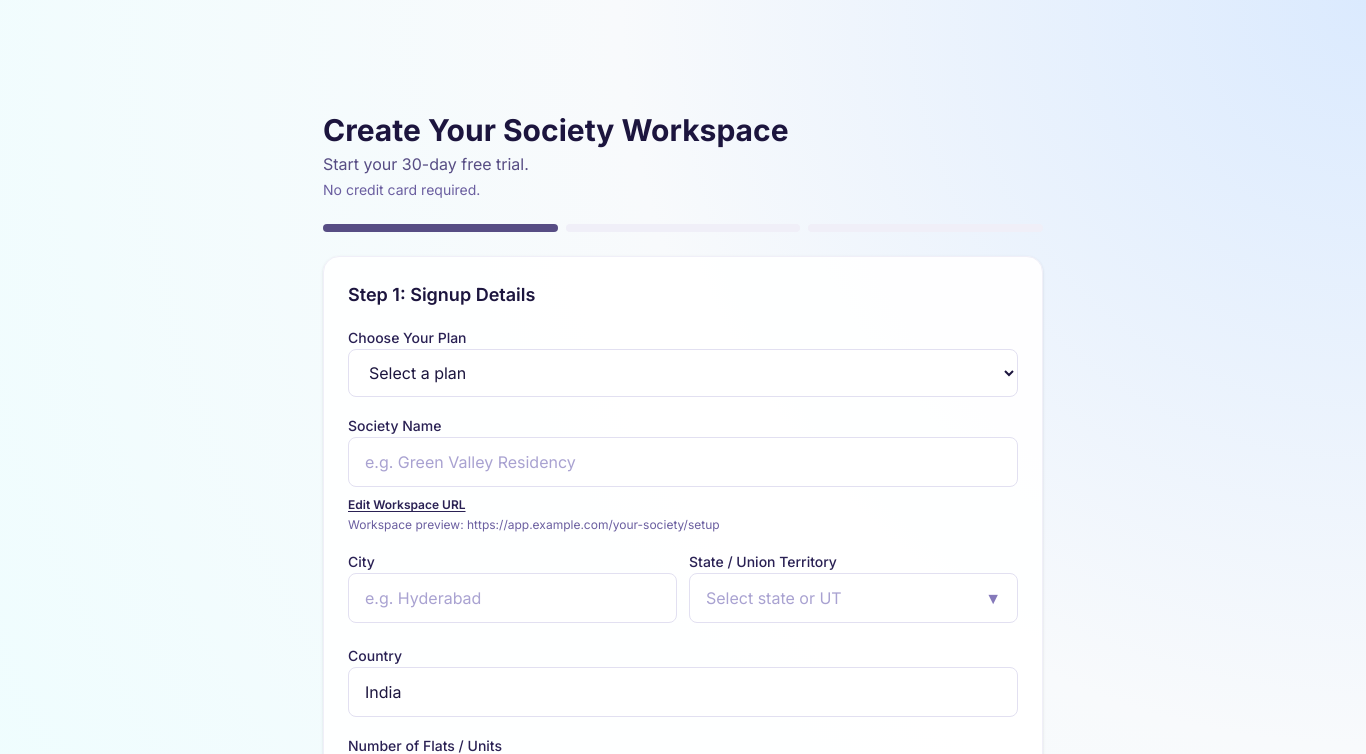
Test: SocietySignupPage › shows selected plan details after choosing a plan on the signup page
Select "Starter" in the dropdown labelled "Choose Your Plan" at (683, 373), box [348,349,1018,397]
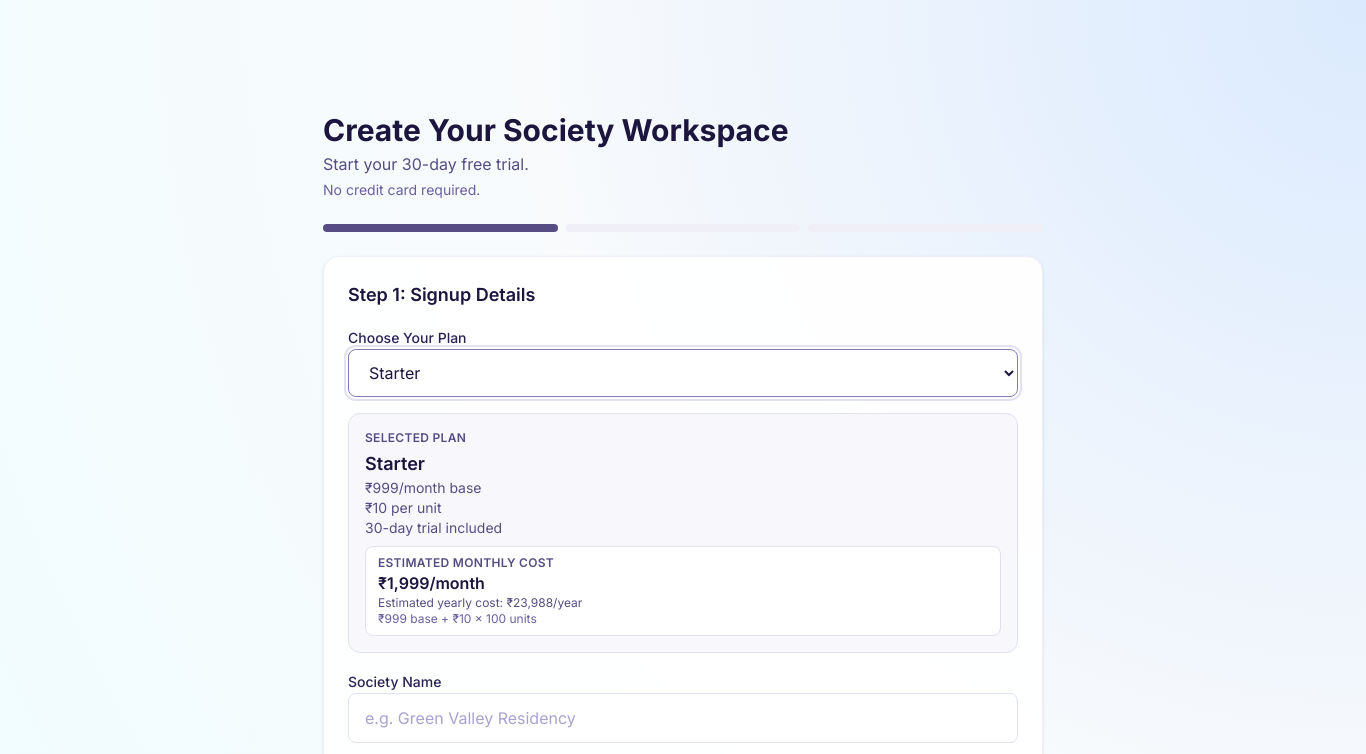
Result: the text "Selected Plan" is shown at [365,430,466,445]
Result: the text "Starter" is shown at [365,453,425,474]
Result: the text "₹999/month base" is shown at [365,479,482,496]
